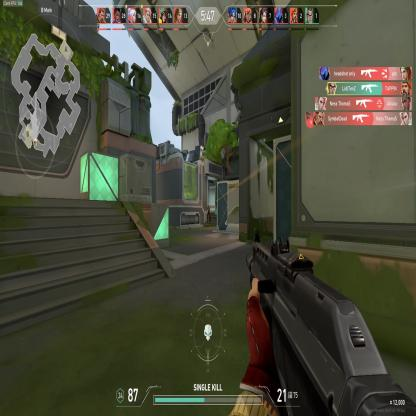enemy: (206, 202, 211, 223)
